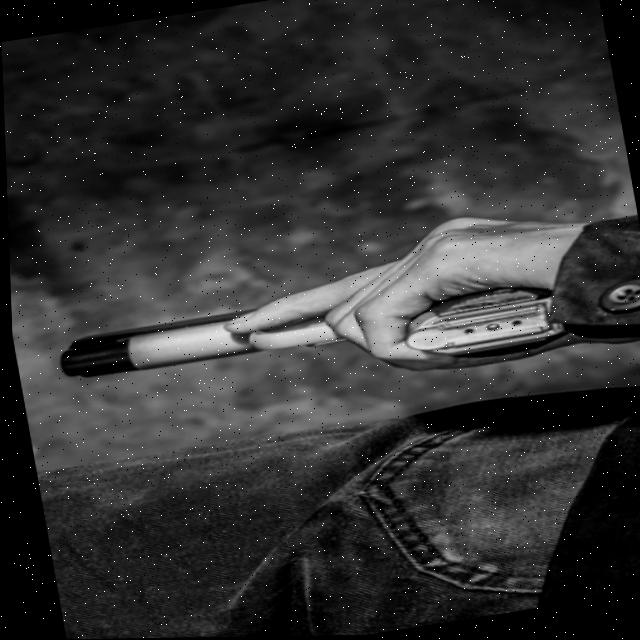pistol: (50, 264, 561, 417)
